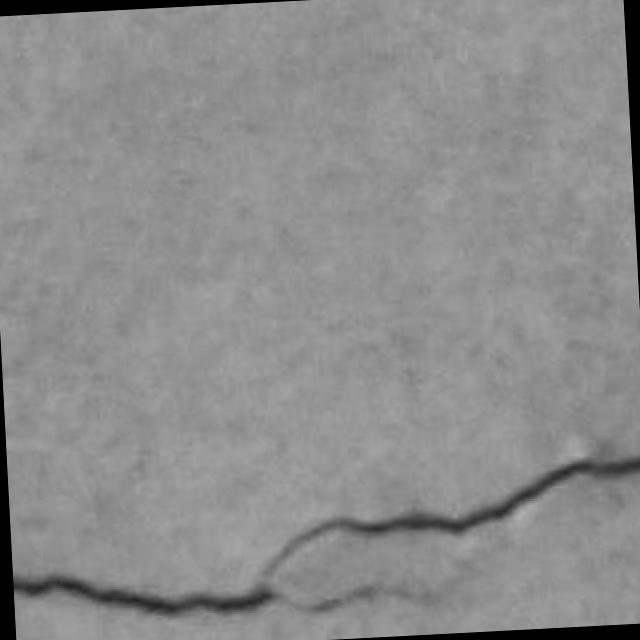crack: (13, 456, 639, 615), (13, 574, 282, 615)
